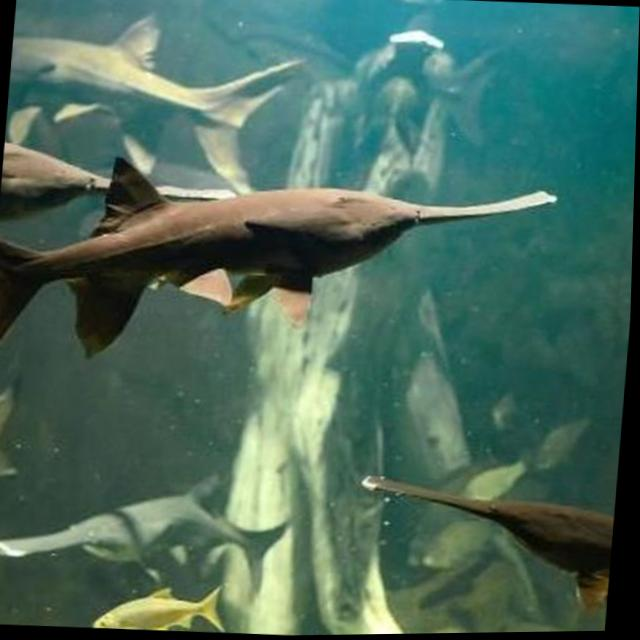fish: (0, 134, 564, 420), (2, 0, 318, 202), (343, 464, 621, 636), (0, 459, 311, 599), (0, 107, 123, 264), (90, 572, 242, 636), (0, 375, 31, 533)
